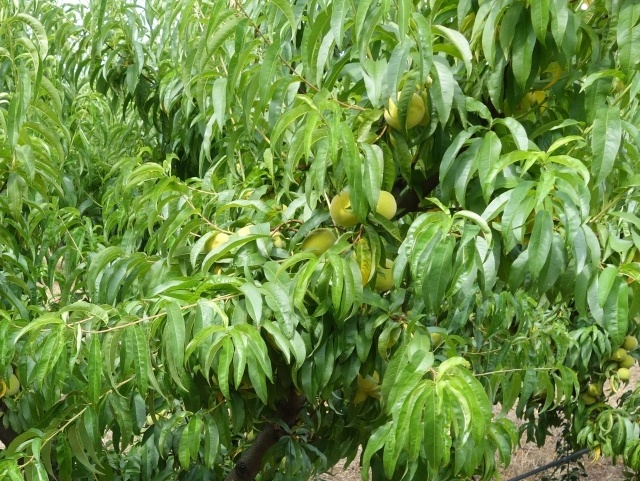peach: (379, 89, 428, 133), (327, 187, 364, 227), (301, 222, 338, 259), (365, 189, 399, 228), (375, 255, 399, 294), (352, 369, 384, 397)
